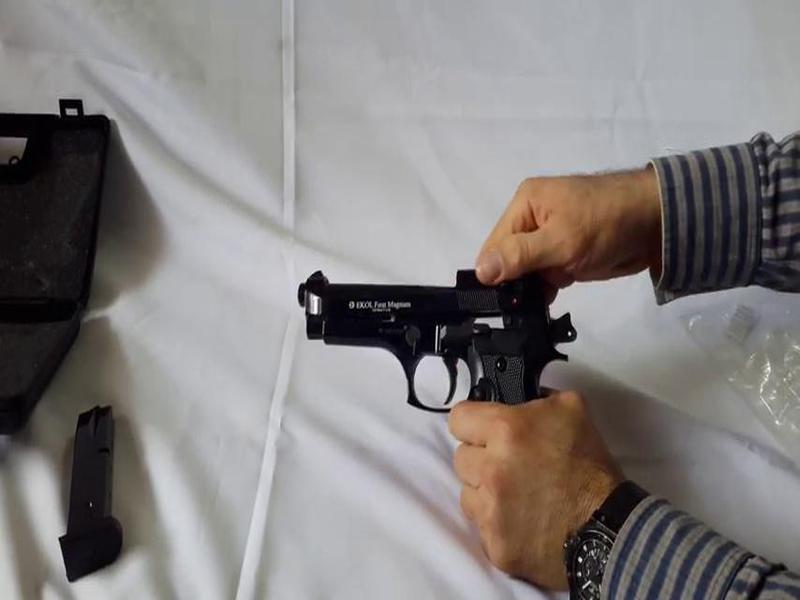Pistola: (291, 242, 590, 464)
